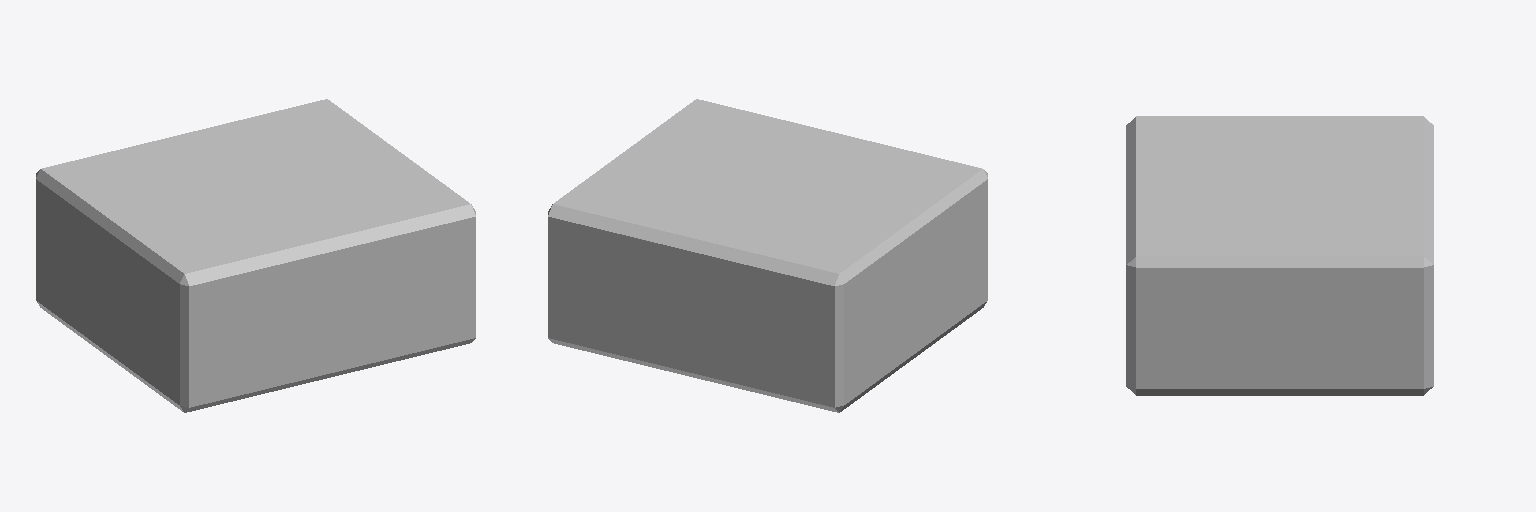
Rendered from cardboar_box_05.obj.
3 views of the same model, side by side, from view 1: azimuth 30°, elevation 25°; view 2: azimuth 150°, elevation 25°; view 3: azimuth 270°, elevation 25° (orthographic).
Visible parts, largest first — view 1: cardboar_box_005; view 2: cardboar_box_005; view 3: cardboar_box_005.
Part boxes in pixels (x1,y1,x2,y2): cardboar_box_005: (36,99,475,412); cardboar_box_005: (548,99,987,412); cardboar_box_005: (1126,116,1433,395).
Bounding box in the file's own units: 34.94 × 15.67 × 31.33.